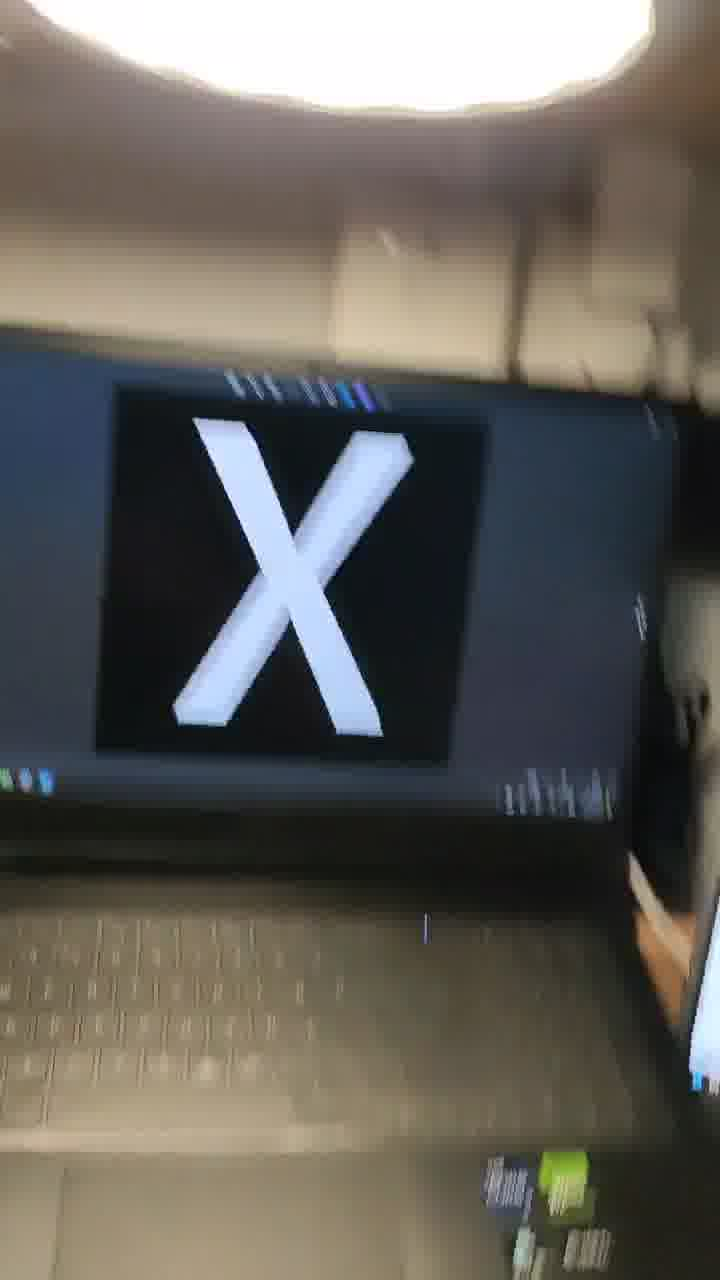X: (86, 344, 487, 792)
